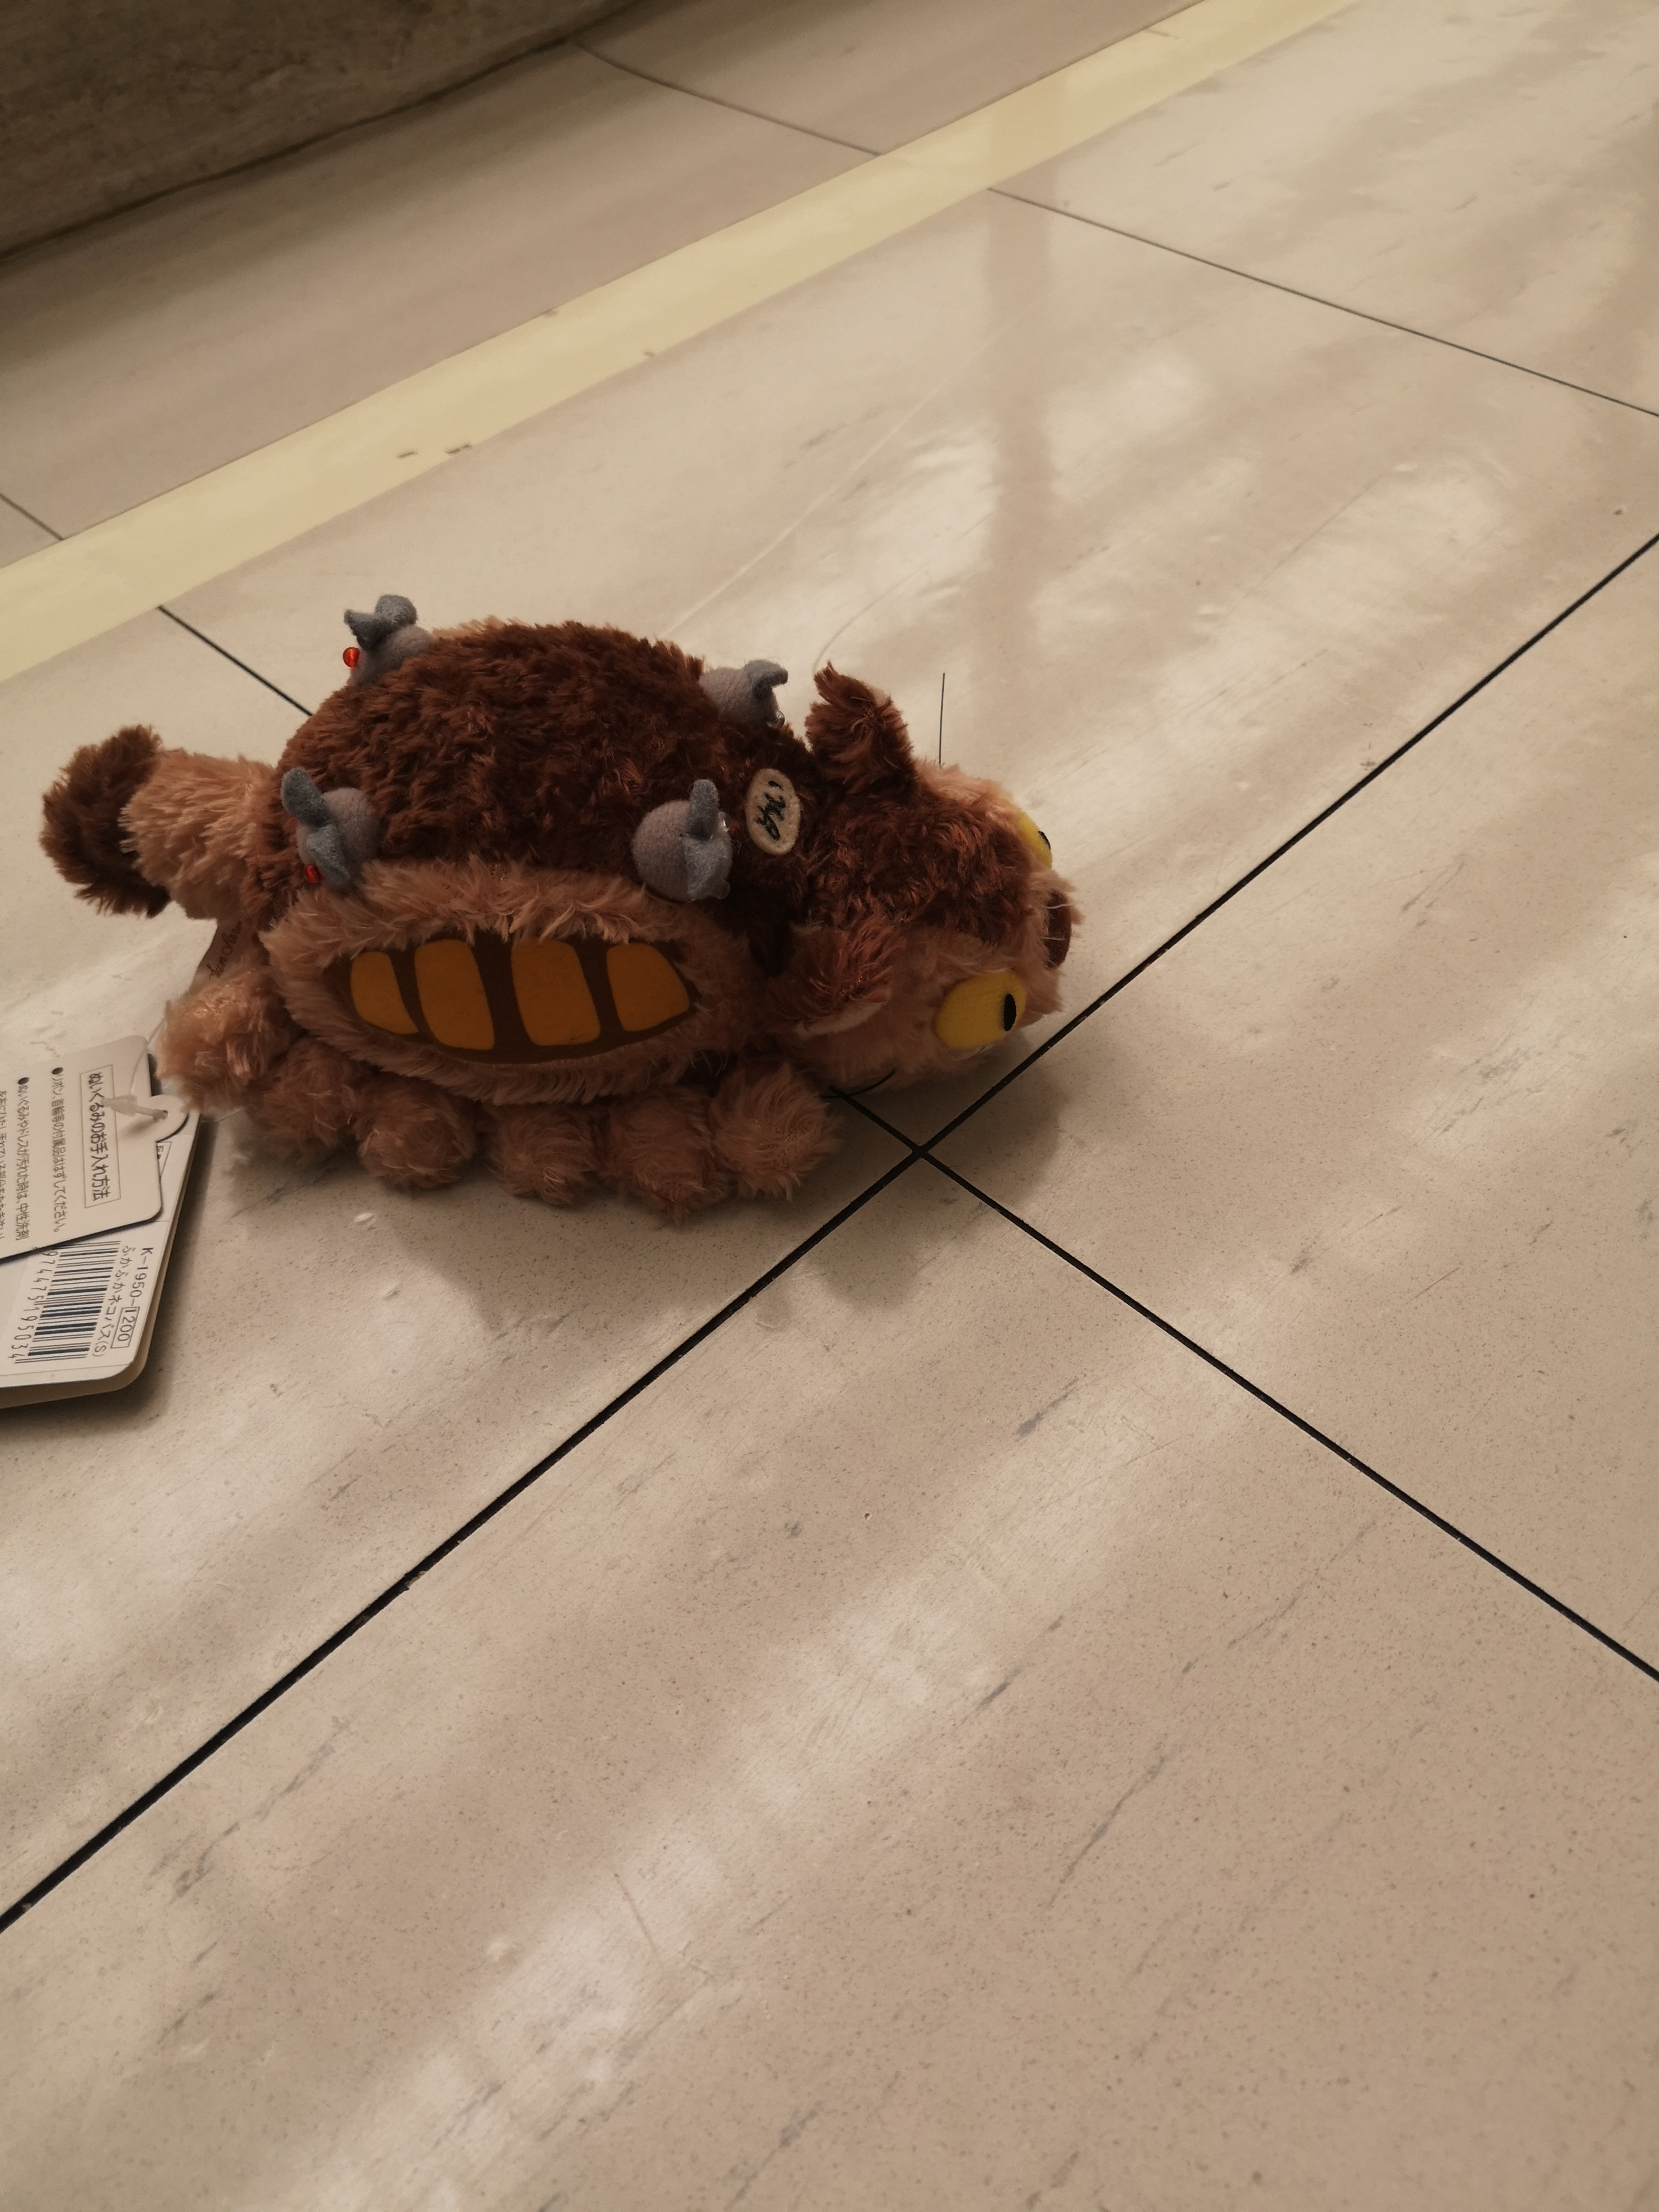nekobus: (19, 578, 1087, 1231)
